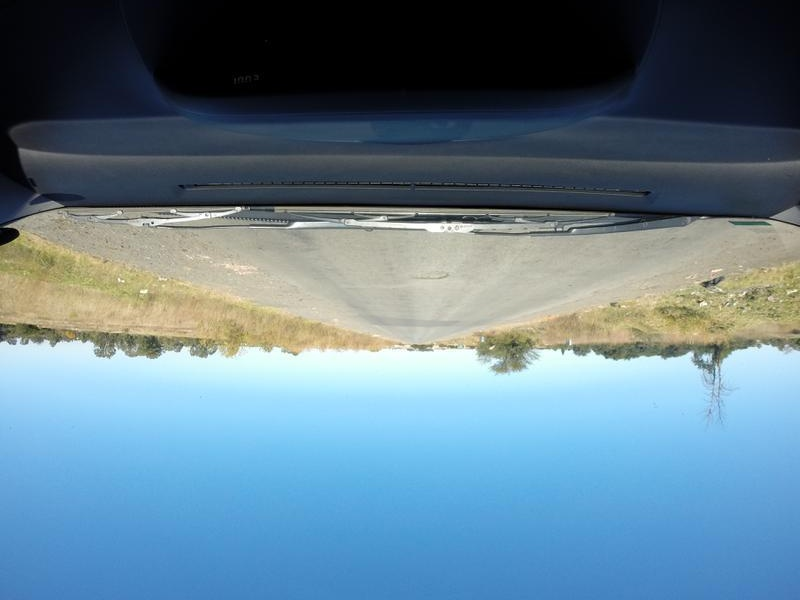pothole: (412, 270, 451, 281)
